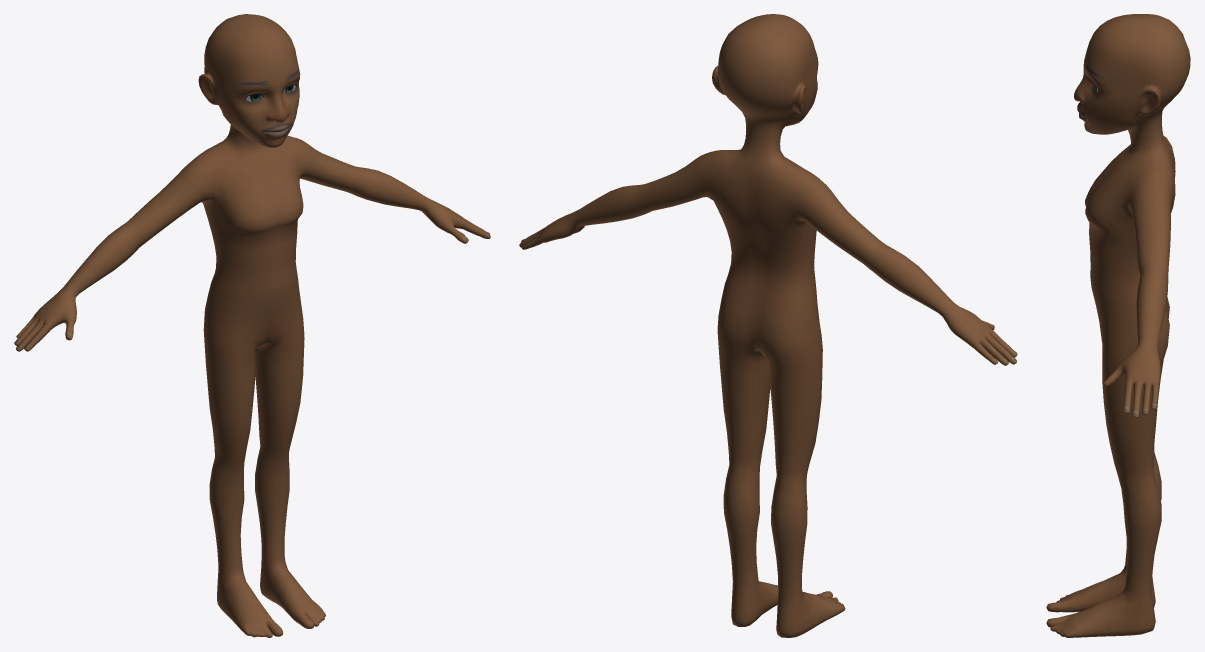
The model's file is frame_0029.glb.
3 views of the same model, side by side, from view 1: azimuth 30°, elevation 25°; view 2: azimuth 150°, elevation 25°; view 3: azimuth 270°, elevation 25° (orthographic). The views are drawn at different scales.
Parts seen in each view (by area): view 1: frame_0029_head_geo; view 2: frame_0029_head_geo; view 3: frame_0029_head_geo.
Boxes of the visible parts, <box> form: frame_0029_head_geo: <box>14,14,490,637</box>; frame_0029_head_geo: <box>519,14,1017,637</box>; frame_0029_head_geo: <box>1046,14,1190,637</box>.
Bounding box in the file's own units: 1.28 × 1.5 × 0.3253.
3 materials, 3 textured.
